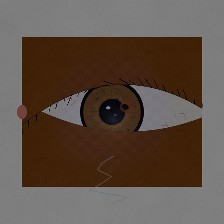foreign_body_visible: (109, 93, 142, 120)
